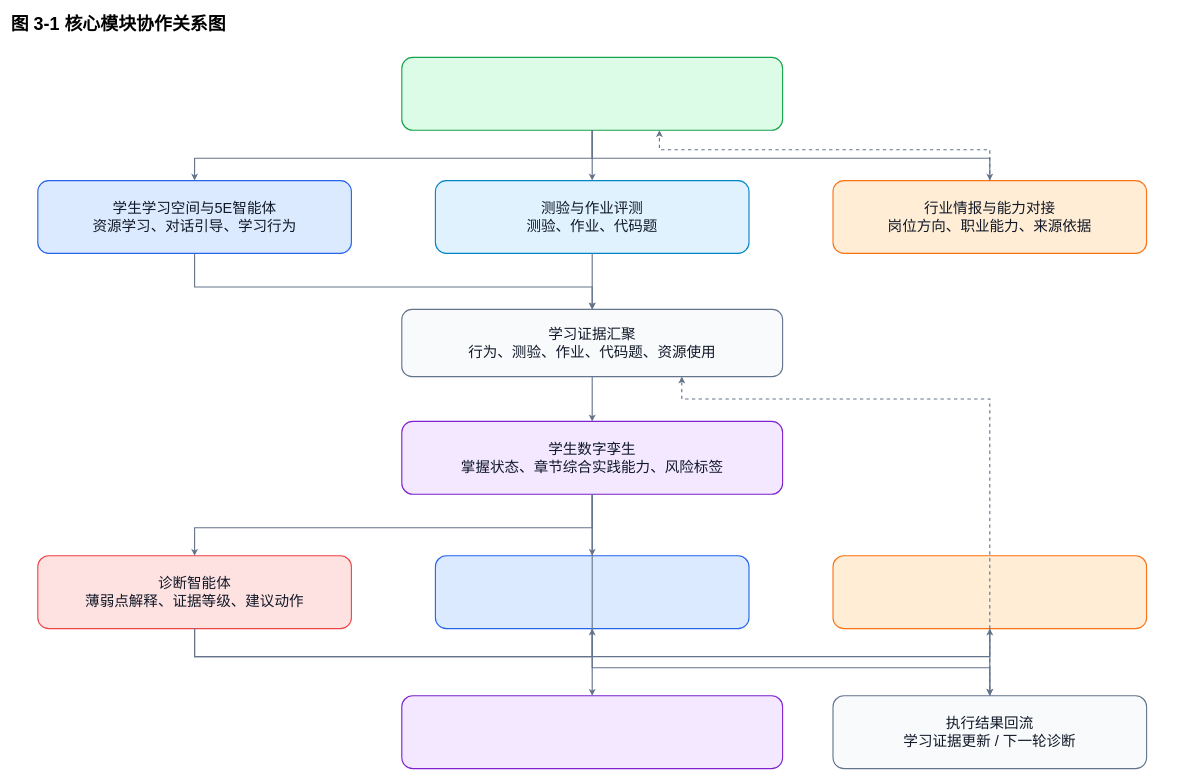
Some shapes in this 1184 by 778 pixel diagram are drawn without their labels. The shapes that lost their labels are listed below. From the top down, each one's box as (x1, y1, x2, y2) in pixels, then its label:
(401, 57, 783, 130): 课程数字孪生与资源底座 课程图谱、叶子知识点、资源、能力映射
(435, 555, 749, 629): 个性化学习路径 正式路径节点、补学安排、补充学习项
(832, 555, 1147, 629): 教师智能干预任务包 草稿生成、教师审核、学生执行
(401, 695, 783, 769): 教师看板与教师数字孪生 班级学情、证据下钻、教学支持画像
